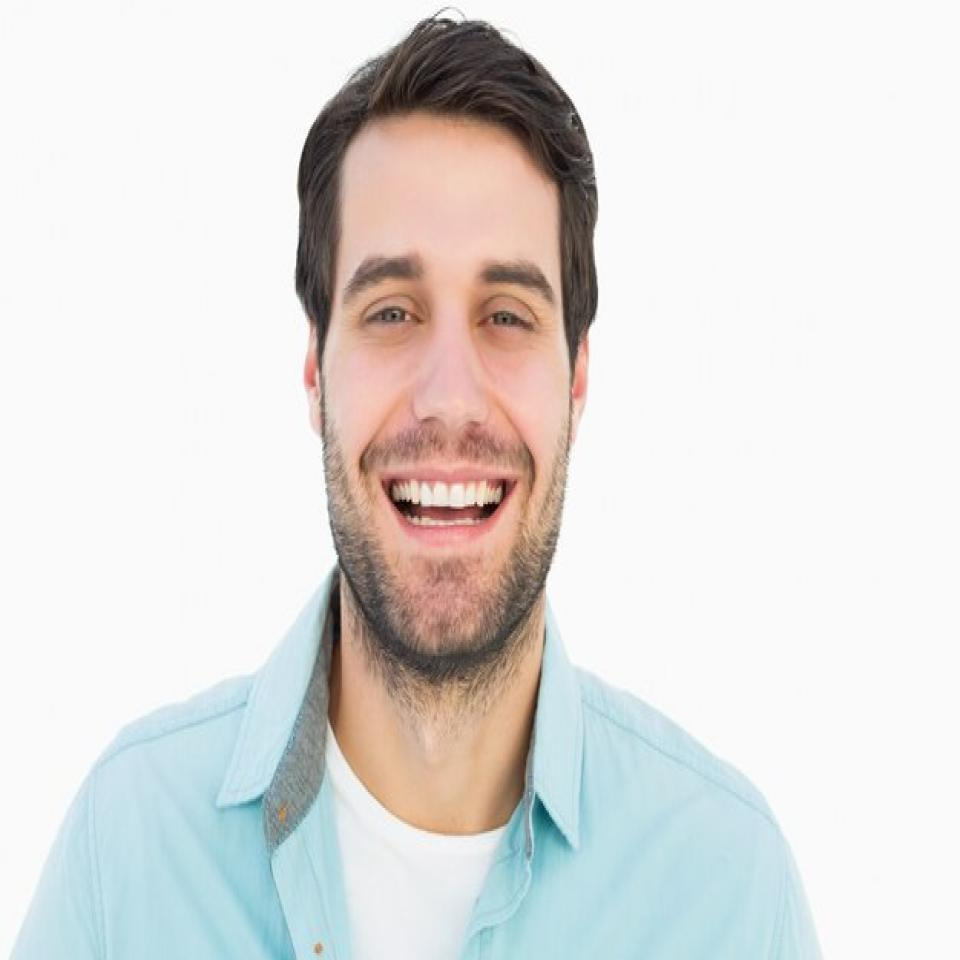Happiness: (328, 129, 569, 659)
